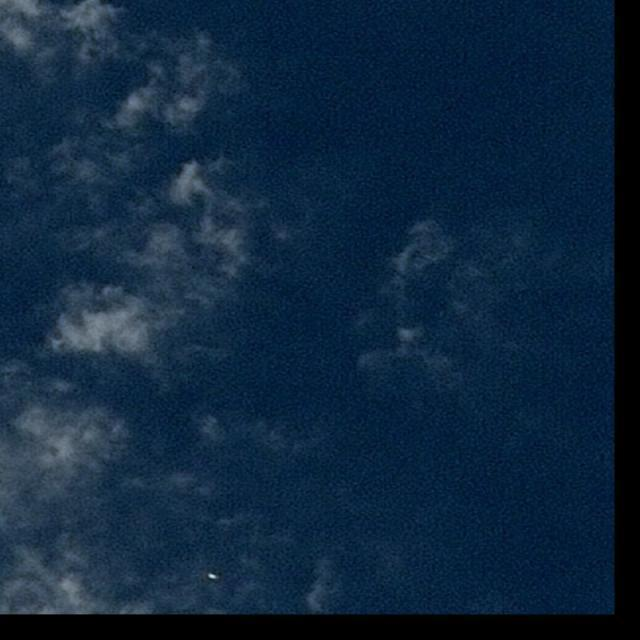ship: (206, 573, 218, 581)
